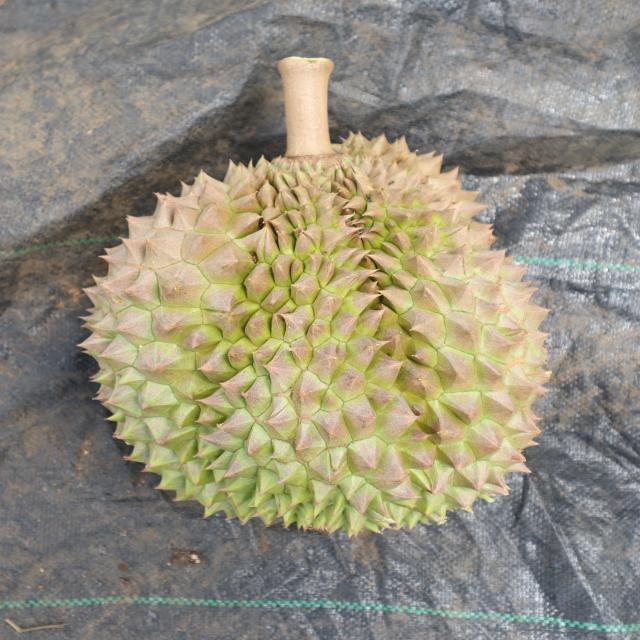mature: (78, 125, 552, 544)
